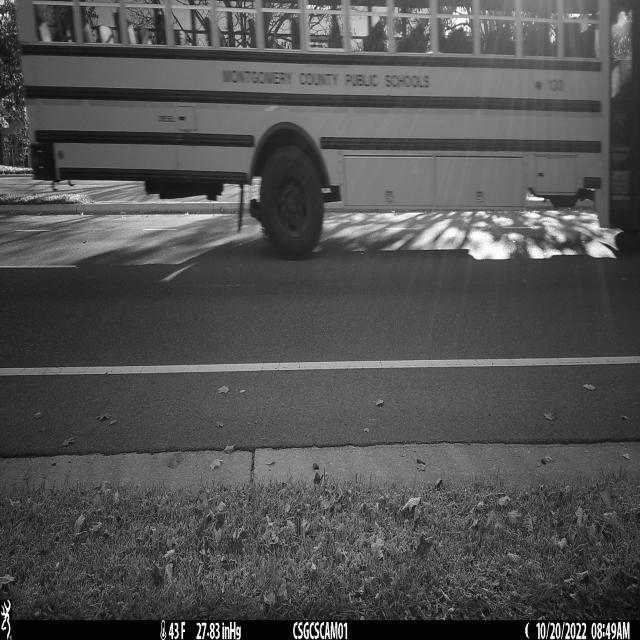Bus: (12, 0, 640, 258)
